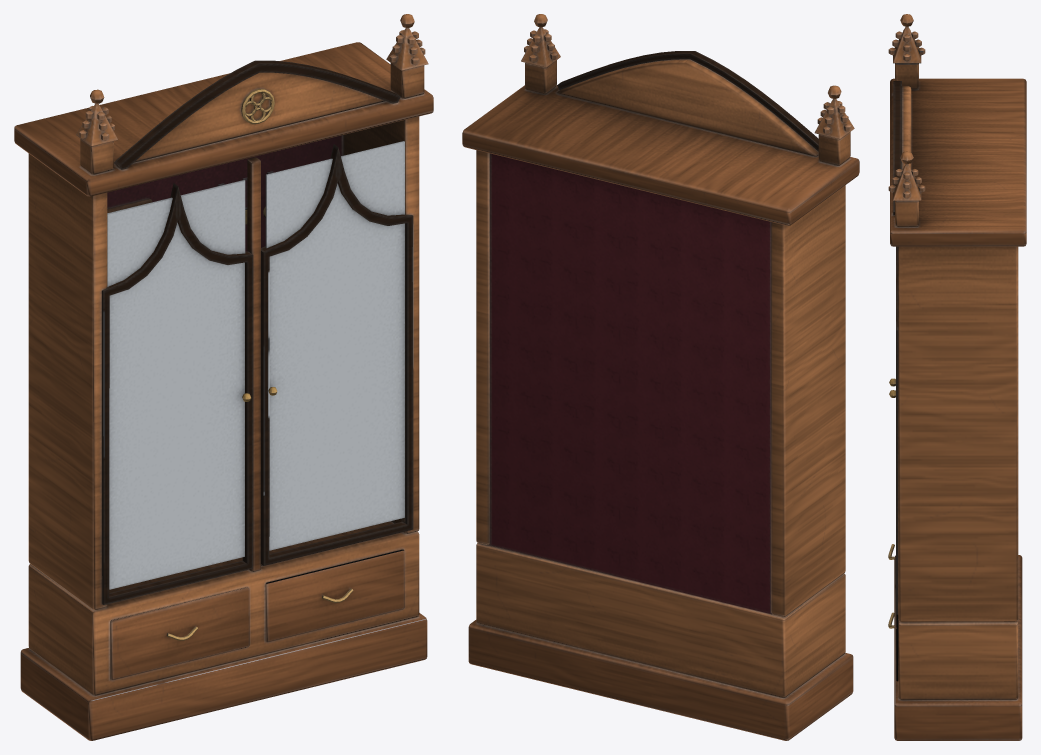
The model's file is TrophyCabinet.fbx.
3 views of the same model, side by side, from view 1: azimuth 30°, elevation 25°; view 2: azimuth 150°, elevation 25°; view 3: azimuth 270°, elevation 25° (orthographic). The views are drawn at different scales.
Parts seen in each view (by area): view 1: TrophyCabinet_Main, TrophyCabinet_Glass; view 2: TrophyCabinet_Main; view 3: TrophyCabinet_Main.
Boxes of the visible parts, box(x1,y1,x2,y2) form: TrophyCabinet_Main: box(14, 14, 433, 740); TrophyCabinet_Glass: box(107, 141, 404, 589); TrophyCabinet_Main: box(462, 14, 859, 740); TrophyCabinet_Main: box(888, 14, 1026, 740).
Size of the model in its own units: 425 by 754 by 162.
